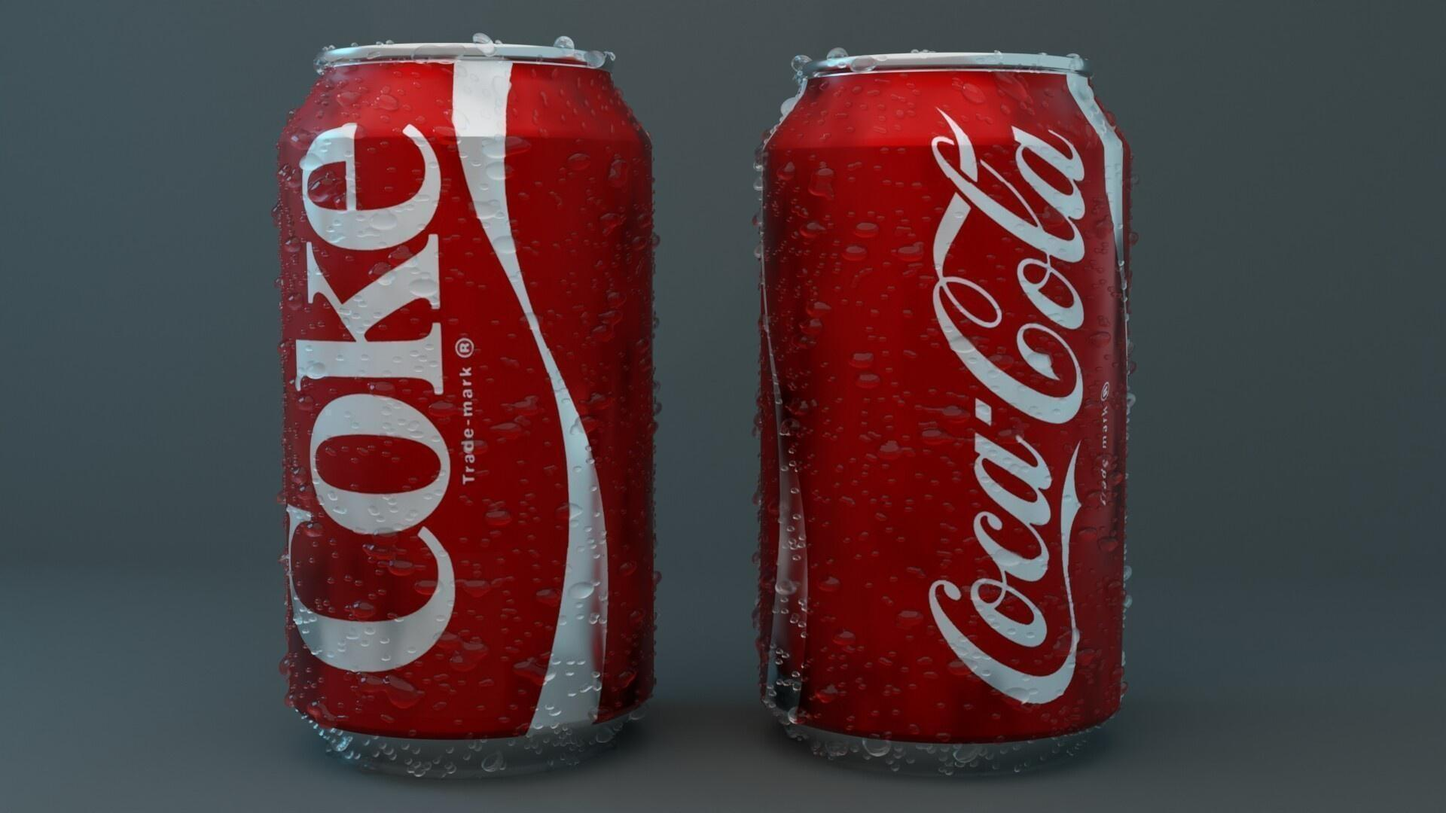tin can: (272, 34, 660, 781), (755, 45, 1133, 778)
